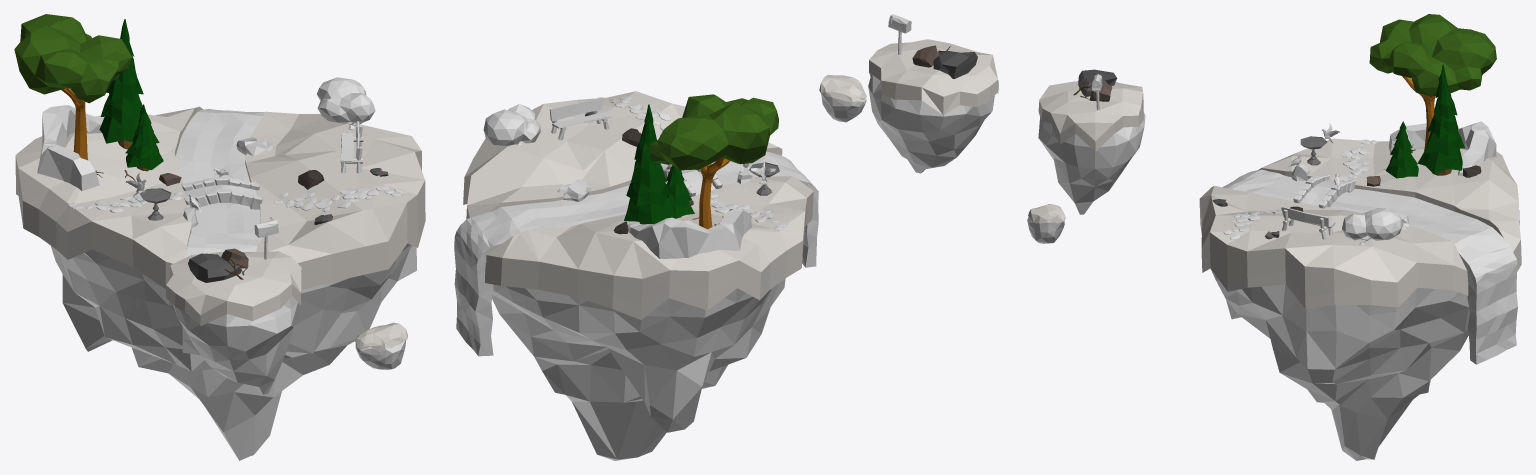
File: lichttest.glb
The picture shows the model from 3 angles, left to right: view 1: azimuth 30°, elevation 25°; view 2: azimuth 150°, elevation 25°; view 3: azimuth 270°, elevation 25°; orthographic projection. The views are drawn at different scales.
Parts seen in each view (by area): view 1: Gras Insel, Insel, Fluss, Icosphere.003, Großer Fels, Sphere, Ruine, Cylinder.009, Icosphere.002, Steinweg, Cube.002, Cylinder.010 (+5 smaller); view 2: Gras Insel, Insel, Fluss, Icosphere.003, Sphere, Großer Fels, Ruine, Cylinder.009, Icosphere.002, Steinweg, Kleiner Fels, Cube.008 (+6 smaller); view 3: Gras Insel, Insel, Fluss, Icosphere.003, Sphere, Großer Fels, Cylinder.009, Ruine, Icosphere.002, Steinweg, Cube.002, Cylinder.010 (+3 smaller).
Part boxes in pixels (x1,y1,x2,y2): Gras Insel: (15, 106, 425, 289); Insel: (51, 243, 416, 460); Fluss: (175, 108, 264, 355); Icosphere.003: (14, 14, 132, 103); Großer Fels: (166, 251, 301, 325); Sphere: (173, 296, 298, 394); Ruine: (37, 105, 103, 190); Cylinder.009: (99, 19, 153, 143); Icosphere.002: (317, 77, 375, 123); Steinweg: (68, 185, 406, 212); Cube.002: (181, 175, 262, 210); Cylinder.010: (125, 104, 163, 169); Gras Insel: (463, 91, 813, 319); Insel: (492, 278, 785, 460); Fluss: (454, 151, 818, 356); Icosphere.003: (649, 94, 778, 170); Sphere: (868, 74, 994, 173); Großer Fels: (869, 39, 998, 115); Ruine: (627, 209, 751, 258); Cylinder.009: (624, 104, 677, 224); Icosphere.002: (483, 104, 540, 147); Steinweg: (609, 96, 787, 231); Kleiner Fels: (819, 74, 866, 102); Cube.008: (933, 50, 977, 78); Gras Insel: (1199, 138, 1521, 308); Insel: (1211, 269, 1469, 460); Fluss: (1222, 169, 1517, 364); Icosphere.003: (1369, 14, 1496, 96); Sphere: (1038, 112, 1145, 214); Großer Fels: (1038, 81, 1143, 151); Cylinder.009: (1417, 64, 1464, 174); Ruine: (1389, 121, 1496, 175); Icosphere.002: (1342, 208, 1403, 240); Steinweg: (1223, 139, 1376, 239); Cube.002: (1293, 174, 1355, 208); Cylinder.010: (1385, 121, 1418, 178).
Bounding box in the file's own units: 1.1 × 1.21 × 1.45.
